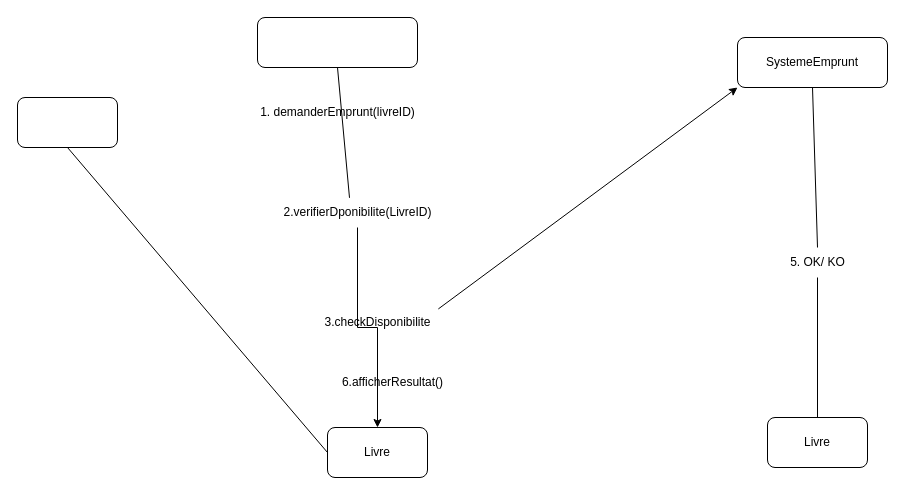
The diagram is 905 pixels wide and 495 high, and some of its shapes have lost their labels. Here are the shapes that lost their labels. From the top down, the centre of each, then its label:
point (337, 42): InterfaceCatalogue
point (67, 122): Lecteur
